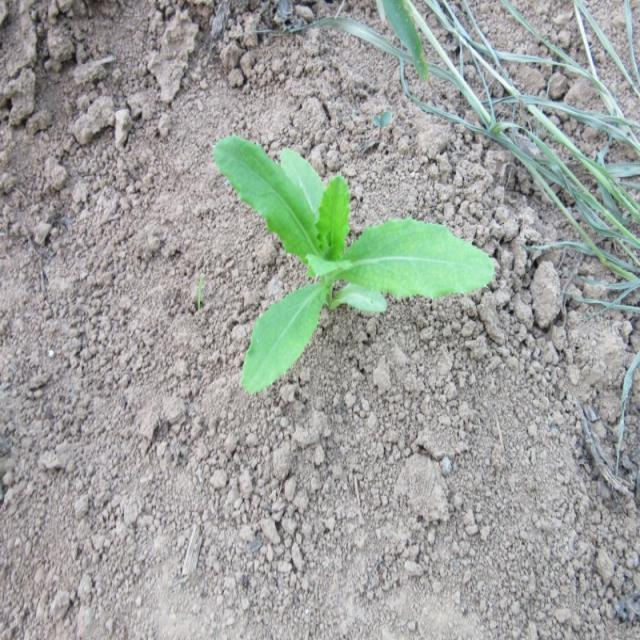cs: (211, 133, 497, 394)
